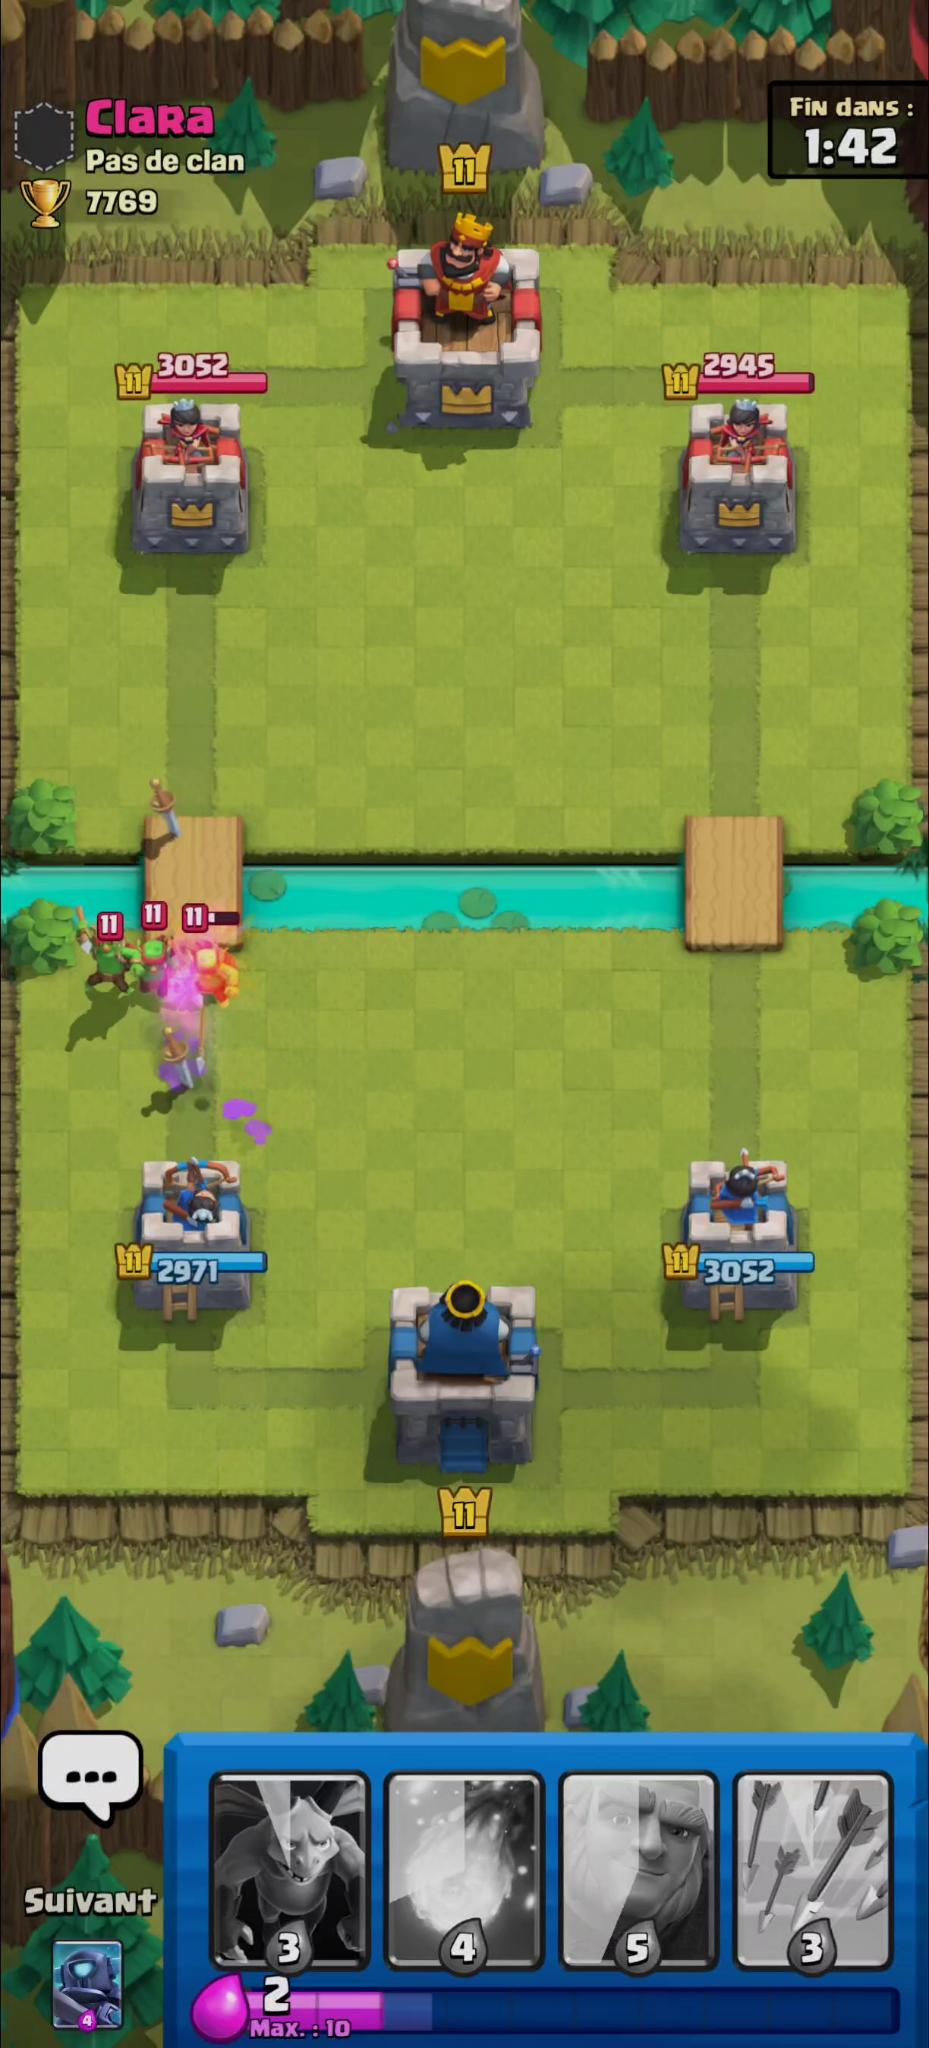gobelin: (76, 908, 139, 1000), (184, 942, 244, 1012), (131, 936, 180, 1002)
